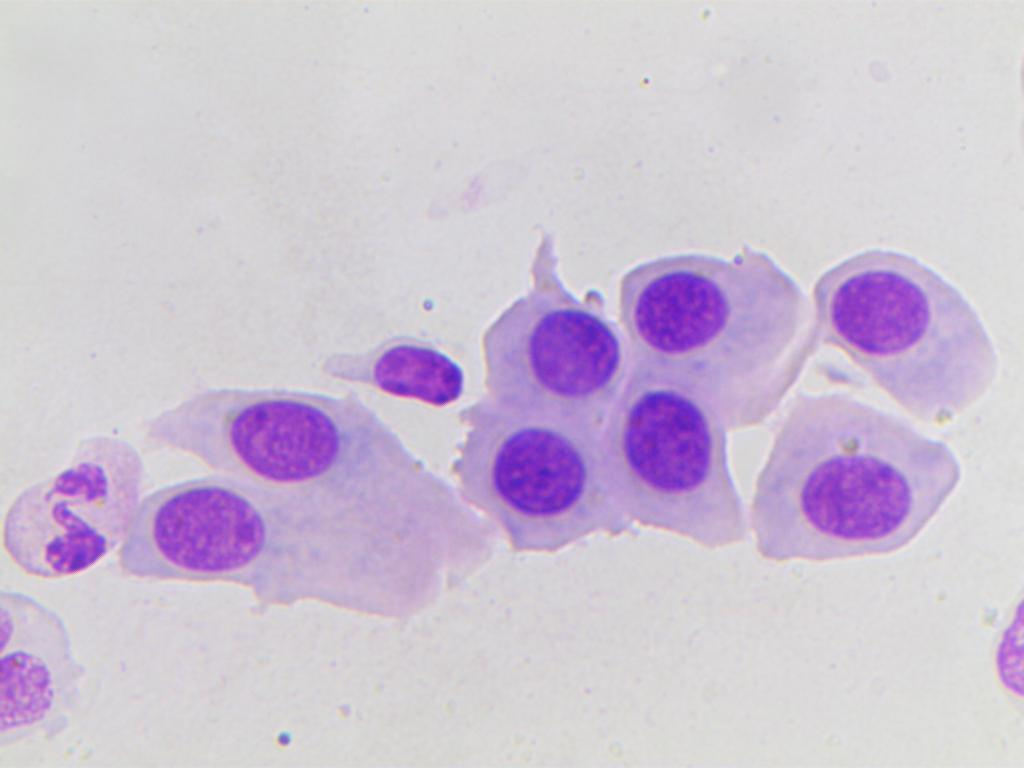artifact: (7, 426, 136, 586)
epithelial: (746, 398, 976, 566), (813, 229, 1003, 419), (134, 482, 346, 581), (613, 250, 749, 372), (190, 377, 347, 479), (307, 324, 472, 410), (471, 417, 594, 525), (631, 381, 731, 509), (514, 305, 628, 406), (0, 643, 68, 767)
